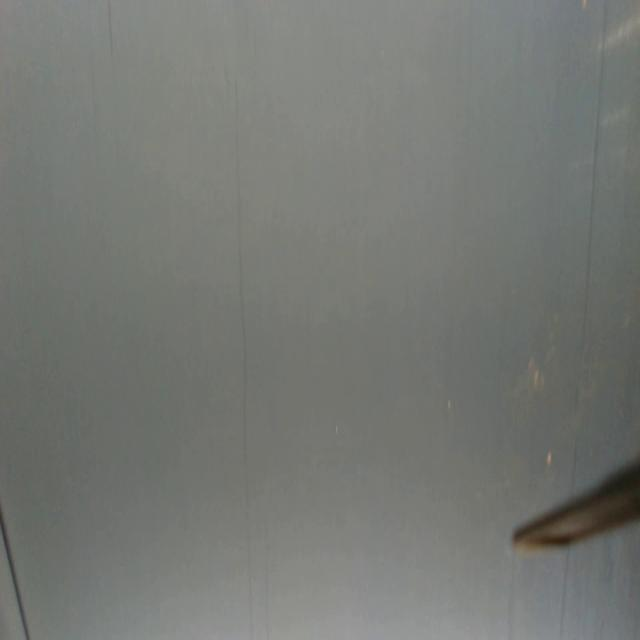crease: (571, 0, 610, 475), (236, 81, 254, 640), (0, 510, 37, 639), (558, 549, 572, 640)
hole: (545, 449, 555, 467), (444, 399, 456, 413), (334, 419, 340, 439)
